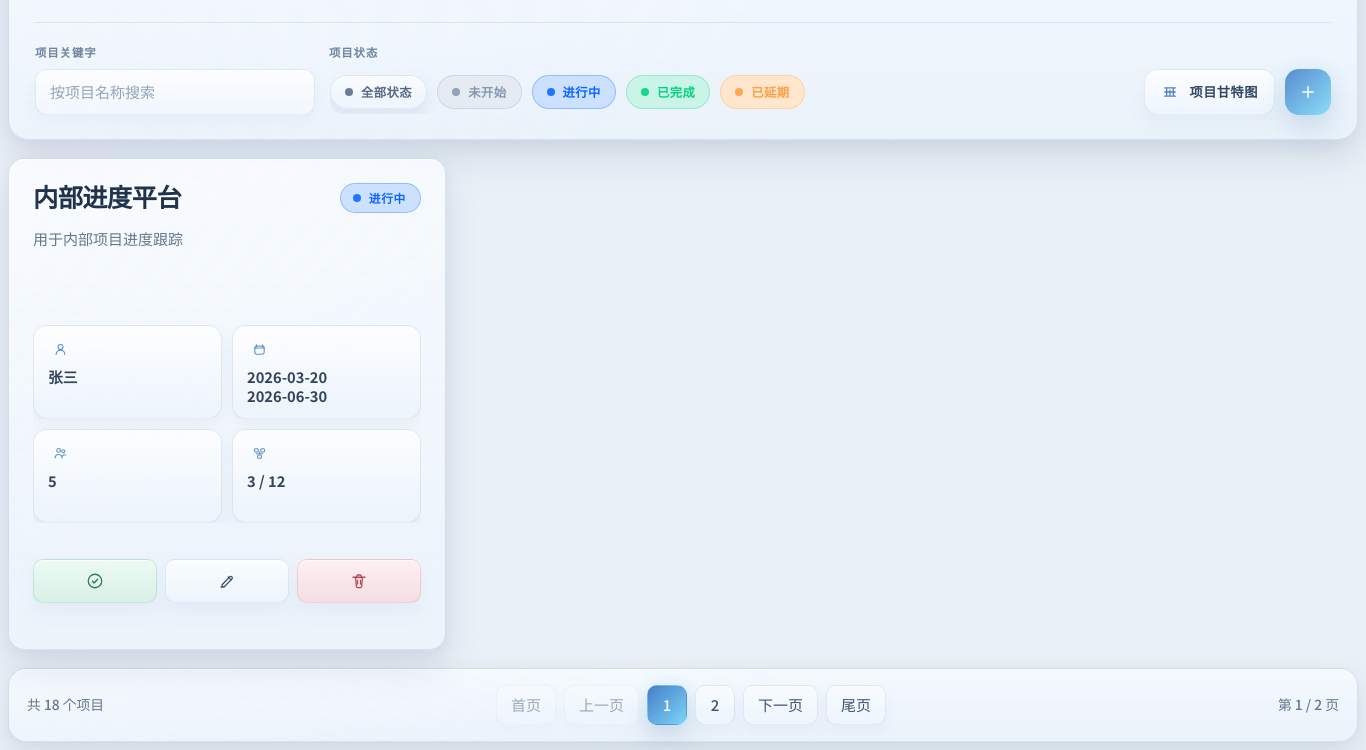
Test: ProjectListView › keeps the current project cards visible while the next page is loading
(page scrolled)
expect the heading "内部进度平台" is shown: met, box [33,178,181,214]
Step 1. Click the button "下一页" → (780, 705), box [743,685,818,725]
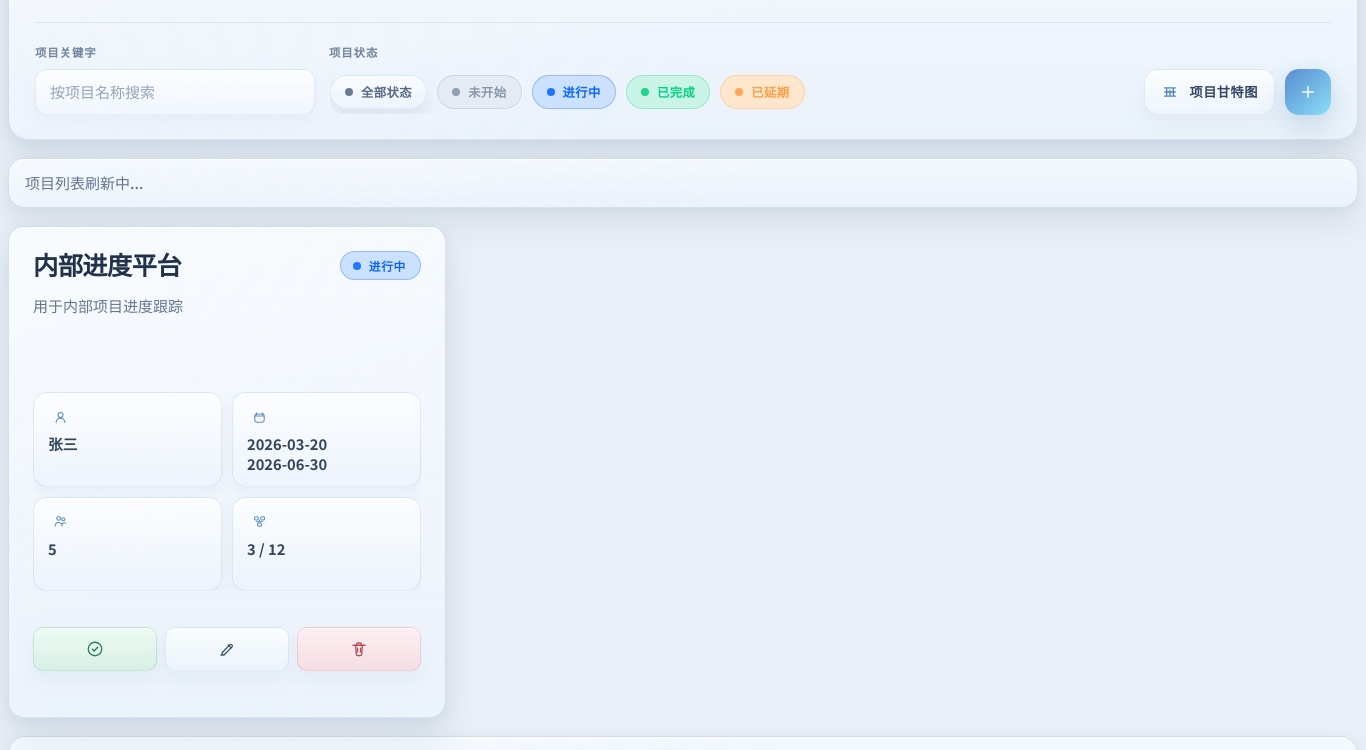
expect the heading "内部进度平台" is shown: met, box [33,246,181,282]
expect the text "项目列表刷新中..." is shown: met, box [8,158,1358,208]
